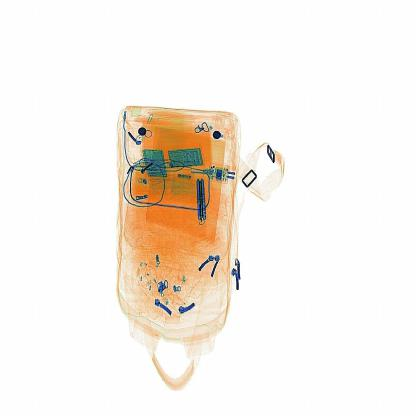scissors: (178, 164, 219, 228)
